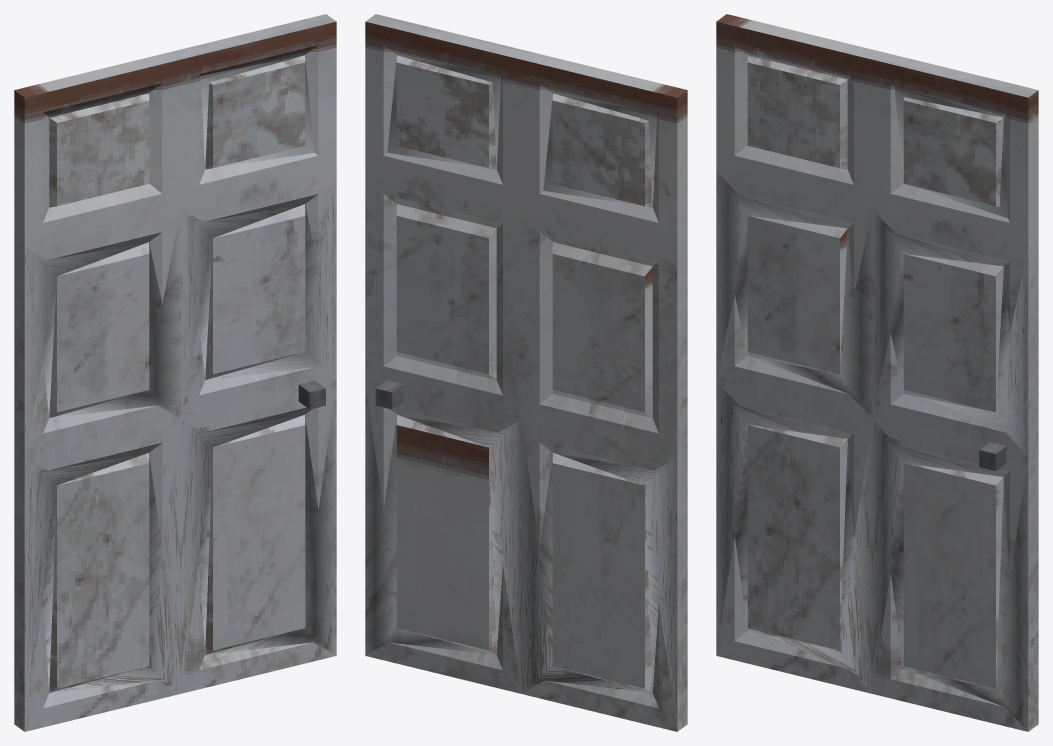
The model's file is item_halloween_door.glb.
3 renders of one model, left to right at view 1: azimuth 30°, elevation 25°; view 2: azimuth 150°, elevation 25°; view 3: azimuth 330°, elevation 25°, orthographic.
Visible parts, largest first — view 1: door_submesh_0, door_submesh_1; view 2: door_submesh_0, door_submesh_1; view 3: door_submesh_0, door_submesh_1.
Part boxes in pixels (left/top/right/bottom): door_submesh_0: left=14, top=14, right=336, bottom=731; door_submesh_1: left=298, top=380, right=325, bottom=409; door_submesh_0: left=365, top=14, right=687, bottom=731; door_submesh_1: left=375, top=380, right=403, bottom=409; door_submesh_0: left=716, top=14, right=1038, bottom=731; door_submesh_1: left=979, top=442, right=1006, bottom=471.
Bounding box in the file's own units: 0.7387 × 1.44 × 0.133.
Materials: 2 (2 with a texture image).
